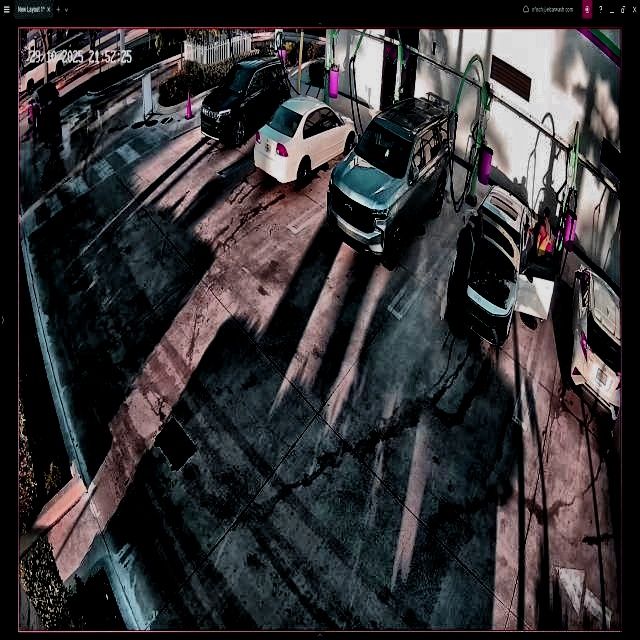Car: (326, 98, 450, 262), (449, 185, 558, 344), (254, 95, 358, 184), (199, 60, 291, 143)
